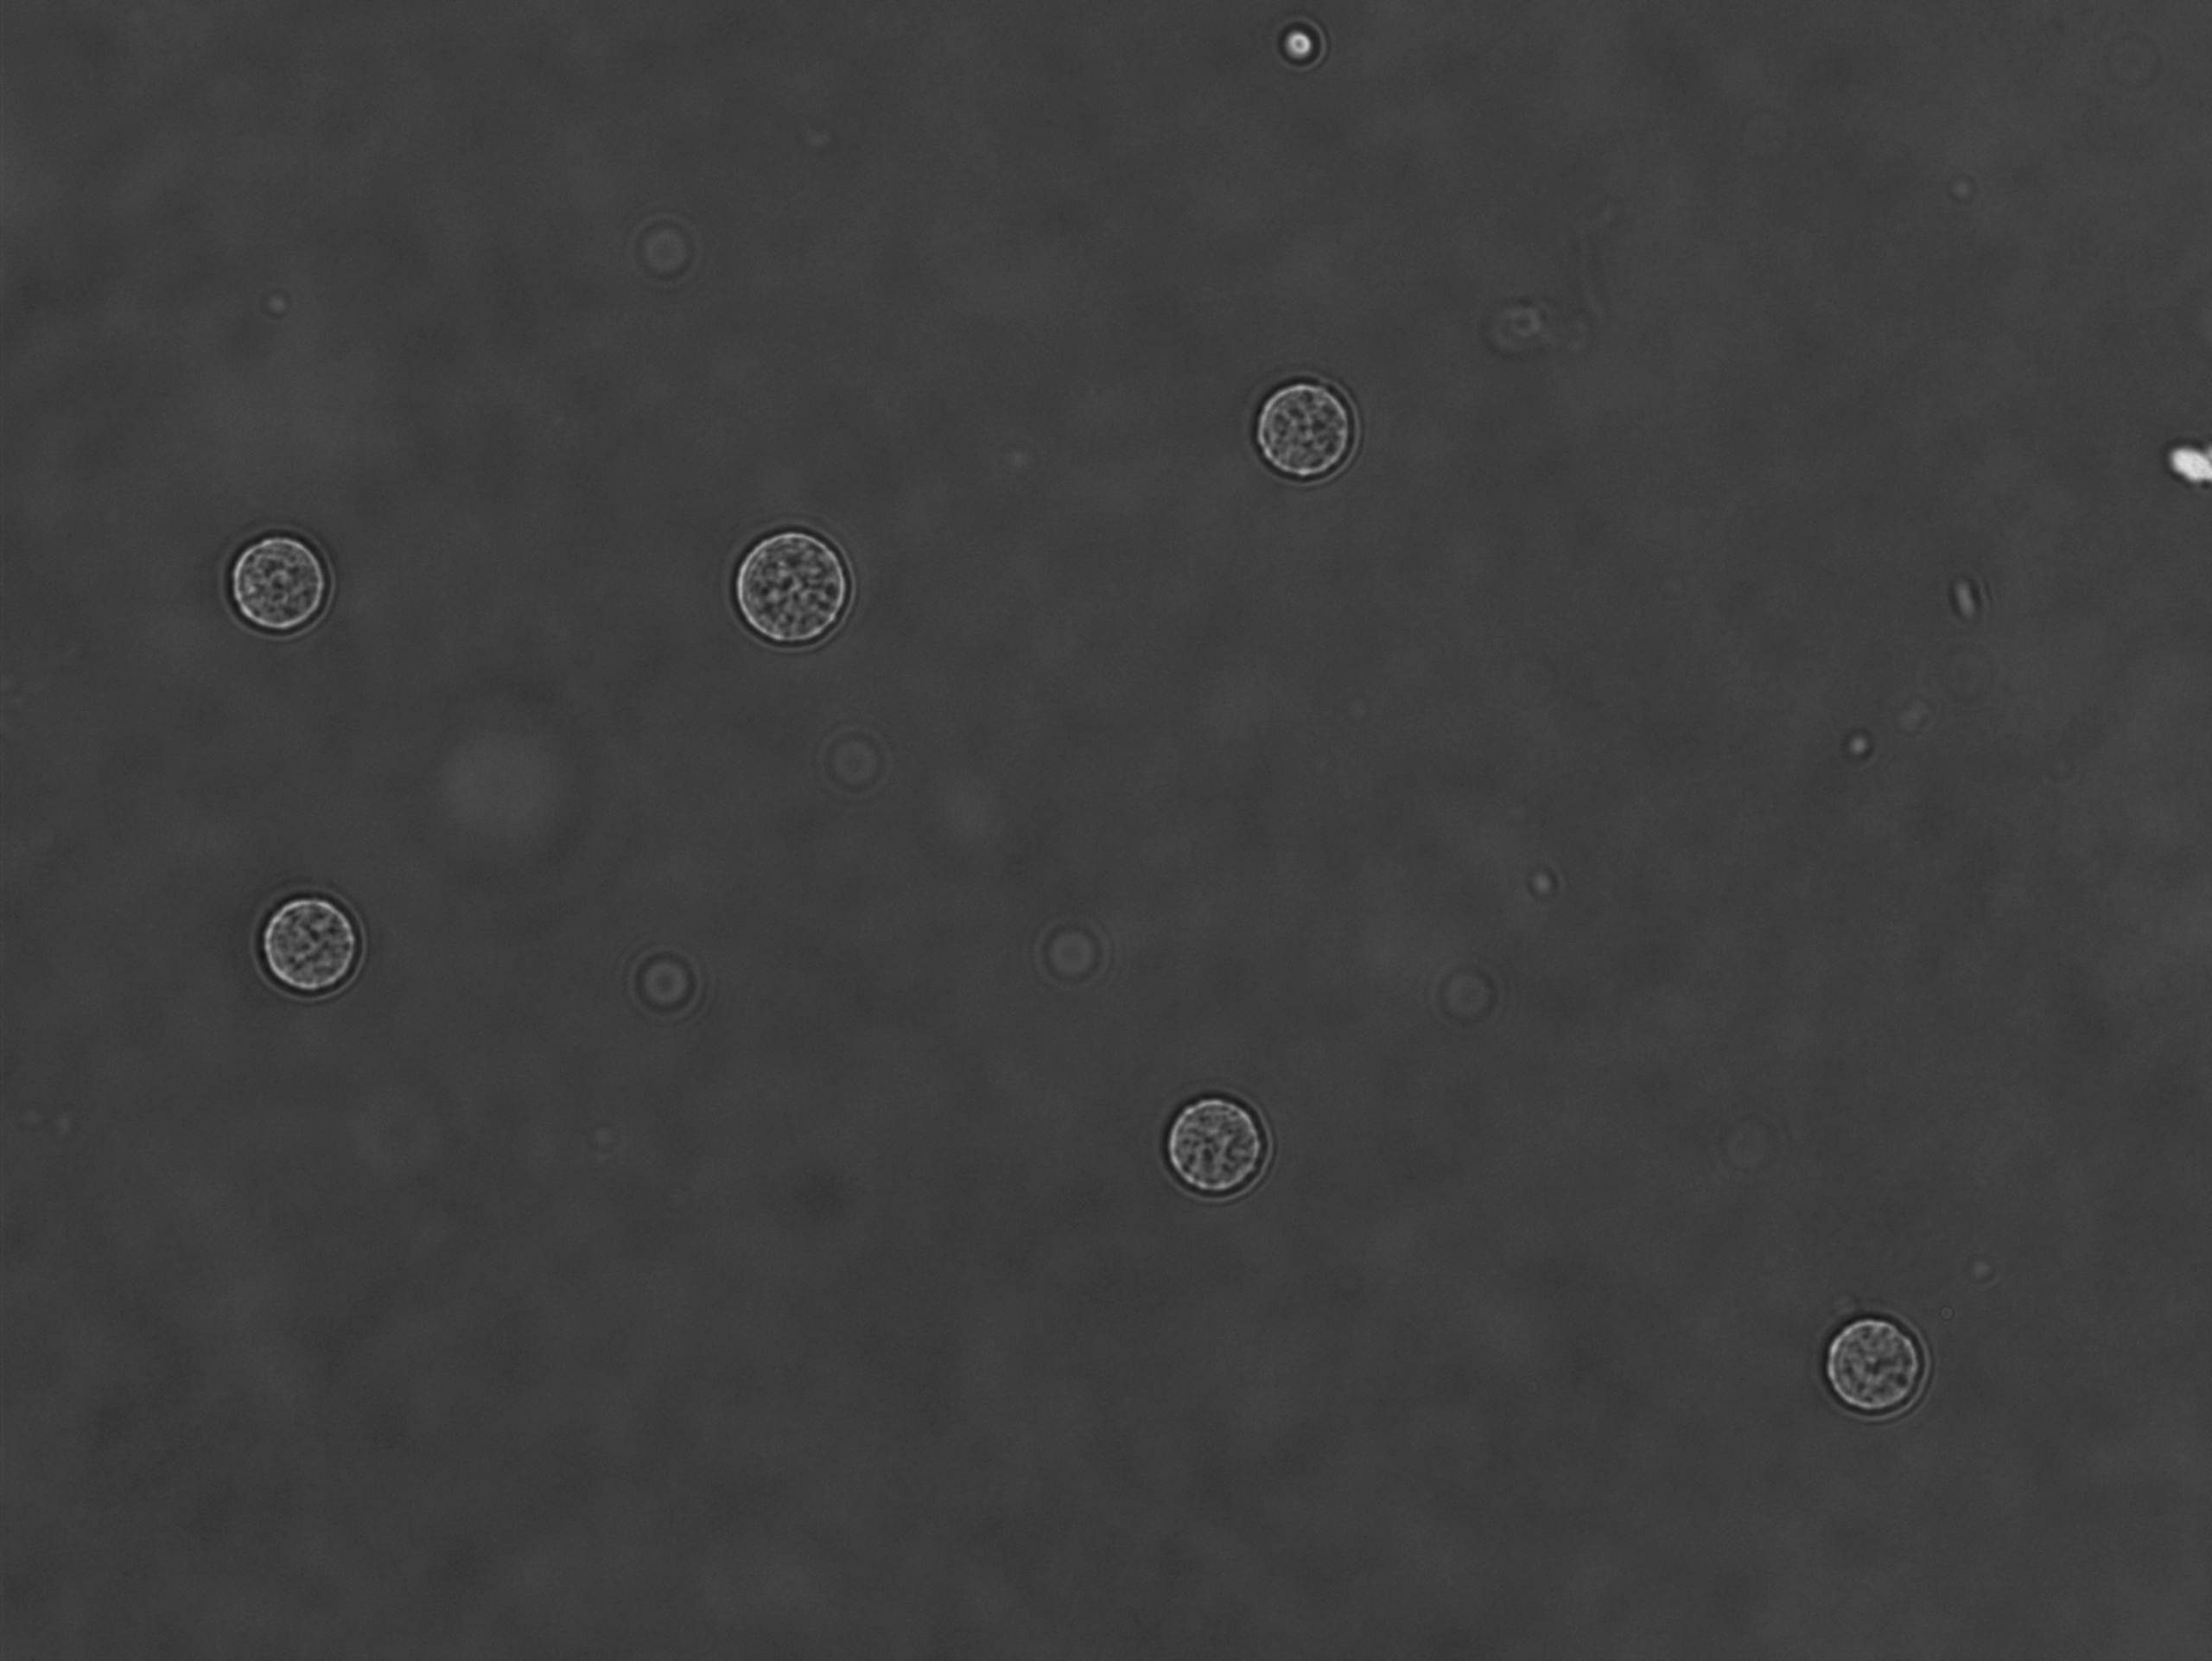depth:0: (1218, 333, 1387, 515), (1797, 1277, 1964, 1441), (244, 871, 410, 1015), (726, 509, 872, 658), (1143, 1064, 1293, 1204), (197, 520, 344, 646)
